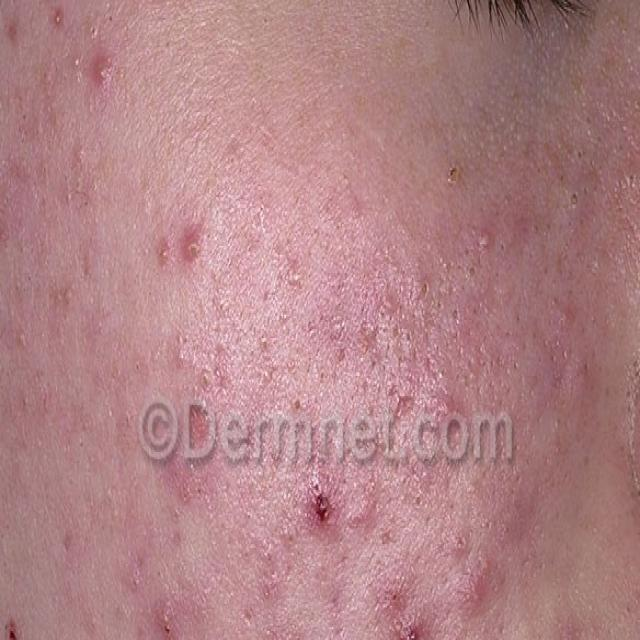Acne: (76, 96, 592, 640), (306, 479, 457, 640), (0, 4, 137, 96), (142, 548, 269, 640), (144, 193, 222, 328), (0, 595, 33, 640)
